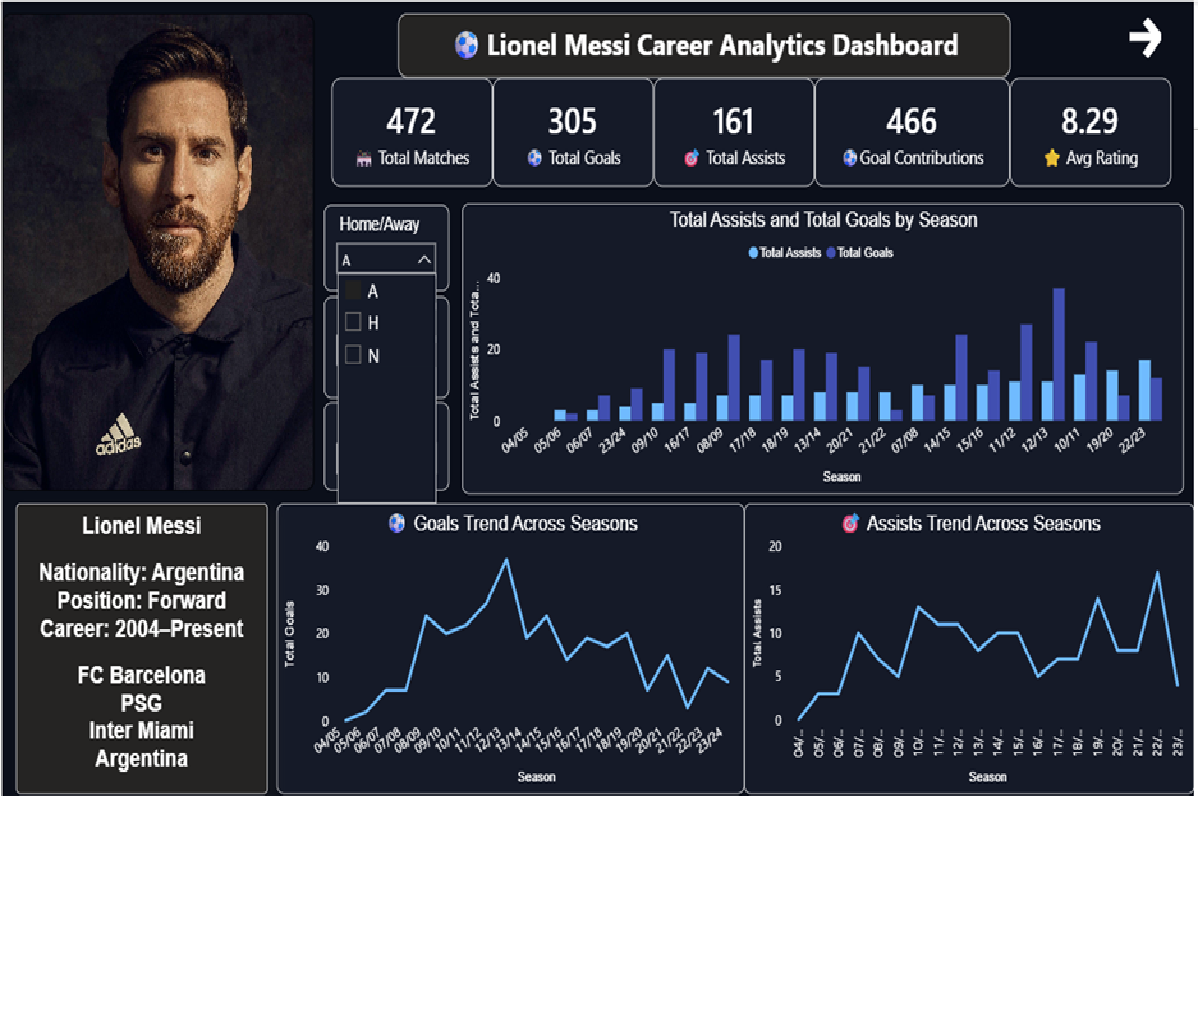

The page's visual inventory and layout, read from the dashboard file:
{"tool":"powerbi","page":{"name":"Page 1","canvas":[1280,720],"ordinal":0},"visuals":[{"type":"cardVisual","fields":{"Data":["leomessi_matches.Total Matches"]},"box":[354,68.6,172.9,97.4],"z":0},{"type":"lineChart","title":"⚽ Goals Trend Across Seasons","fields":{"Category":["leomessi_matches.Season"],"Y":["leomessi_matches.Total Goals"]},"box":[295,450.1,502.2,260.7],"z":1000},{"type":"lineChart","title":"🎯 Assists Trend Across Seasons","fields":{"Category":["leomessi_matches.Season"],"Y":["leomessi_matches.Total Assists"]},"box":[797.4,450.1,482.9,260.8],"z":2000},{"type":"clusteredColumnChart","fields":{"Category":["leomessi_matches.Season"],"Y":["leomessi_matches.Total Assists","leomessi_matches.Total Goals"]},"box":[494,181.1,775.3,260.7],"z":3000},{"type":"slicer","fields":{"Values":["leomessi_matches.Season"]},"box":[345.8,265.3,134.1,90.9],"z":4000},{"type":"slicer","fields":{"Values":["leomessi_matches.Competition"]},"box":[345.8,359.5,134.5,79.6],"z":5000},{"type":"slicer","fields":{"Values":["leomessi_matches.Home/Away"]},"box":[345.8,181.8,134.1,77.5],"z":6000},{"type":"textbox","box":[425.4,11,657.3,57.6],"z":7000},{"type":"image","box":[0,11,334.8,428.1],"z":8000},{"type":"cardVisual","fields":{"Data":["leomessi_matches.Total Goals"]},"box":[526.9,68.6,172.9,97.4],"z":9000},{"type":"cardVisual","fields":{"Data":["leomessi_matches.Total Assists"]},"box":[699.8,68.6,172.9,97.4],"z":10000},{"type":"cardVisual","fields":{"Data":["leomessi_matches.Goal Contributions"]},"box":[872.7,68.6,209.9,97.4],"z":11000},{"type":"cardVisual","fields":{"Data":["leomessi_matches.Avg Rating"]},"box":[1082.7,68.6,172.9,97.4],"z":12000},{"type":"textbox","box":[15.1,450.1,270.3,260.7],"z":13000},{"type":"actionButton","box":[1204.8,11,54.9,43.9],"z":14000}]}

Visuals, with their boxes on the page's 1280x720 design canvas (x1, y1, x2, y2). These are canvas units, not pixel positions in the 1198x1011 screenshot, which may show the page scaled, cropped or inside an application window:
cardVisual - leomessi_matches.Total Matches: <bbox>354, 69, 527, 166</bbox>
"⚽ Goals Trend Across Seasons" lineChart: <bbox>295, 450, 797, 711</bbox>
"🎯 Assists Trend Across Seasons" lineChart: <bbox>797, 450, 1280, 711</bbox>
clusteredColumnChart - leomessi_matches.Season x leomessi_matches.Total Assists: <bbox>494, 181, 1269, 442</bbox>
slicer - leomessi_matches.Season: <bbox>346, 265, 480, 356</bbox>
slicer - leomessi_matches.Competition: <bbox>346, 360, 480, 439</bbox>
slicer - leomessi_matches.Home/Away: <bbox>346, 182, 480, 259</bbox>
textbox: <bbox>425, 11, 1083, 69</bbox>
image: <bbox>0, 11, 335, 439</bbox>
cardVisual - leomessi_matches.Total Goals: <bbox>527, 69, 700, 166</bbox>
cardVisual - leomessi_matches.Total Assists: <bbox>700, 69, 873, 166</bbox>
cardVisual - leomessi_matches.Goal Contributions: <bbox>873, 69, 1083, 166</bbox>
cardVisual - leomessi_matches.Avg Rating: <bbox>1083, 69, 1256, 166</bbox>
textbox: <bbox>15, 450, 285, 711</bbox>
actionButton: <bbox>1205, 11, 1260, 55</bbox>
